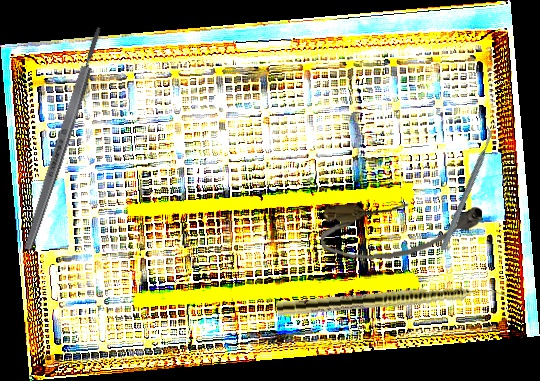Cannula: (319, 196, 485, 263)
Chopper: (401, 124, 531, 252)
Handpiece: (276, 281, 508, 319)
Scalpel Handle: (21, 25, 106, 252)
